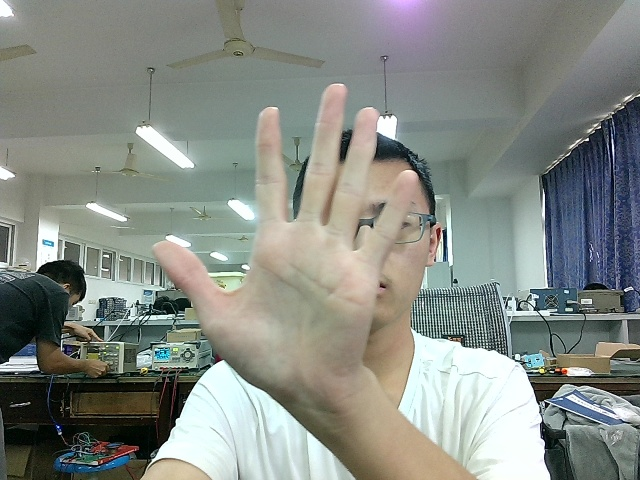paper: (142, 67, 405, 410)
